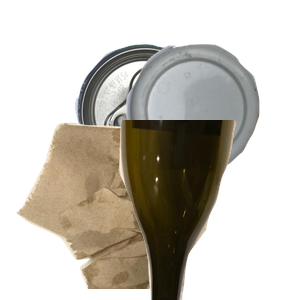glass: (117, 120, 300, 300)
metal: (73, 42, 277, 212)
plastic: (124, 42, 300, 210)
trash: (14, 120, 222, 300)
